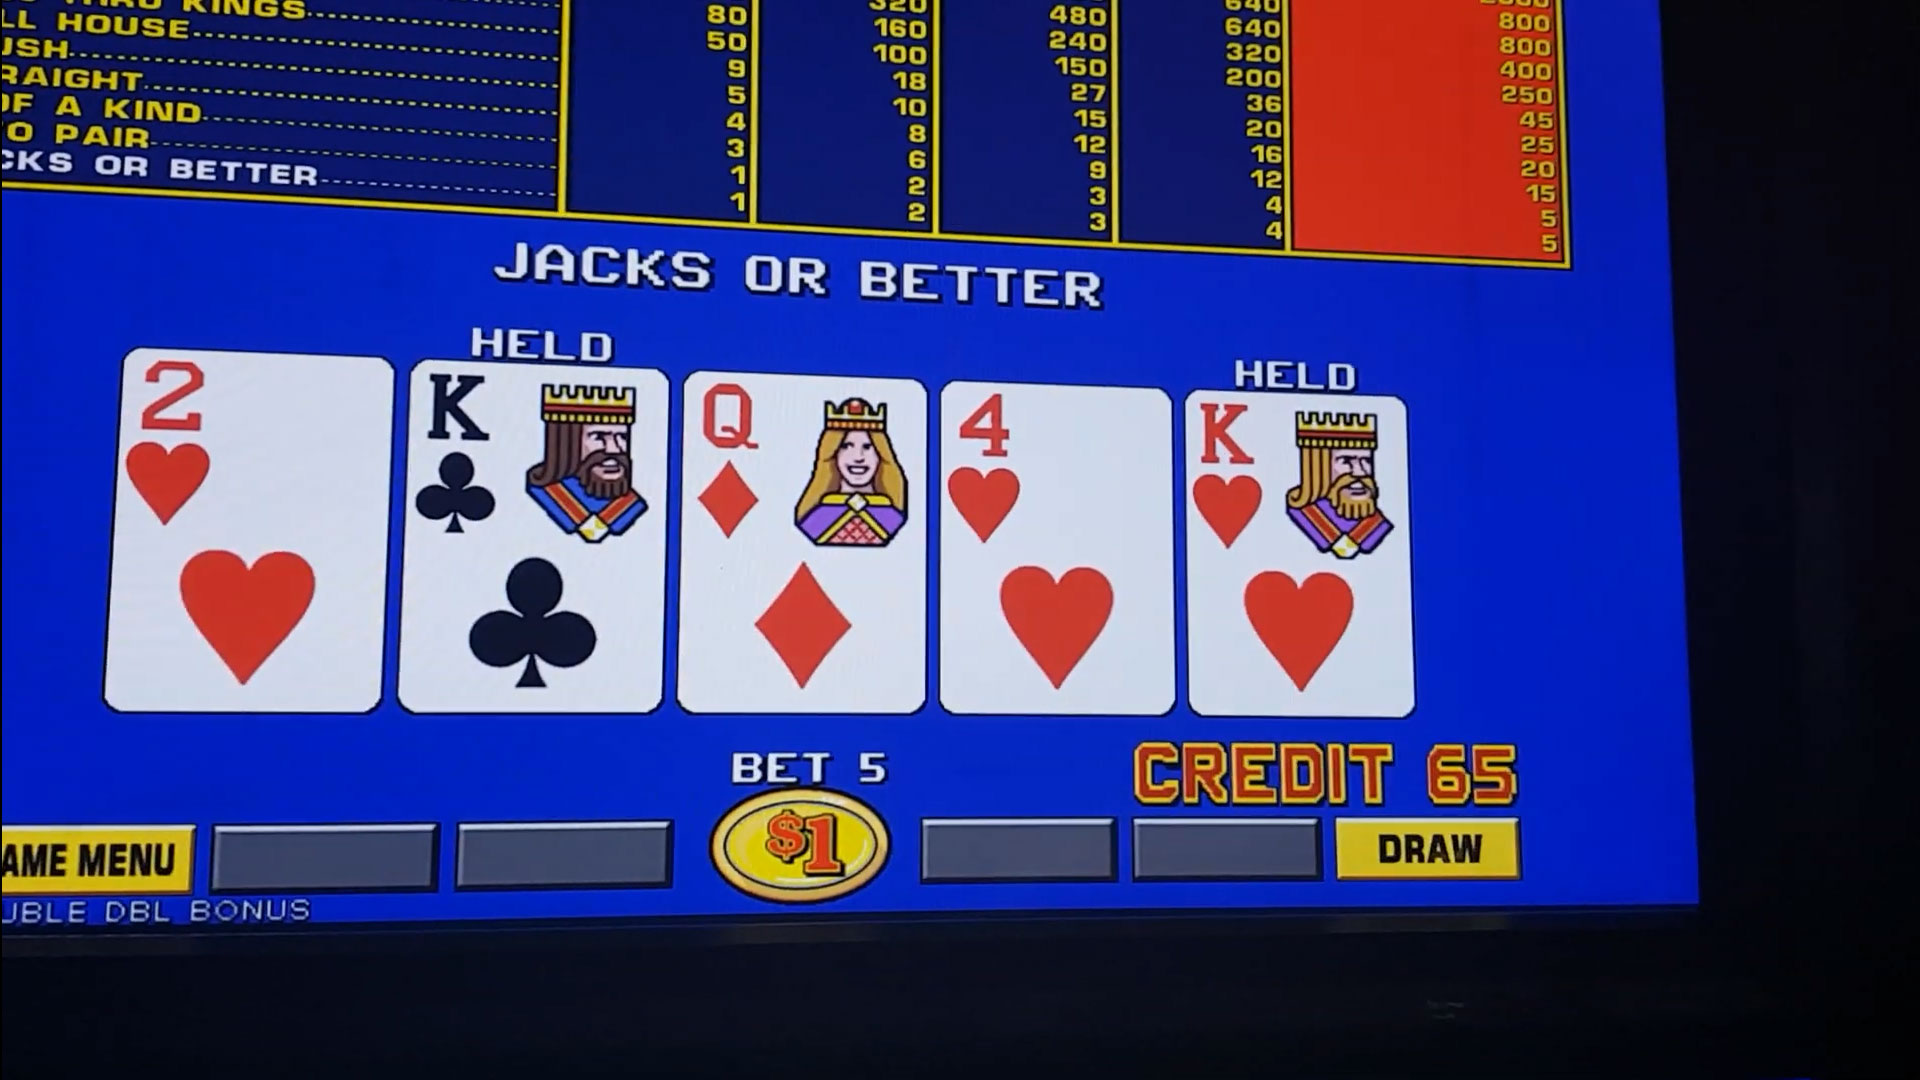CK: (415, 369, 659, 547)
DQ: (684, 378, 924, 551)
H2: (127, 360, 380, 533)
H4: (938, 382, 1172, 558)
HK: (1187, 393, 1400, 556)
